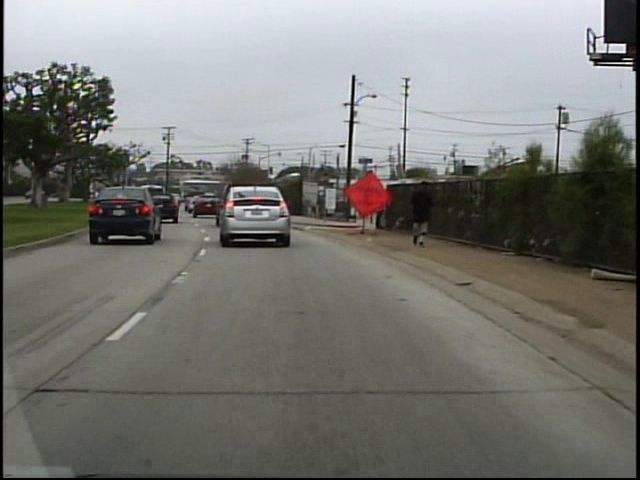person: (406, 175, 440, 254)
